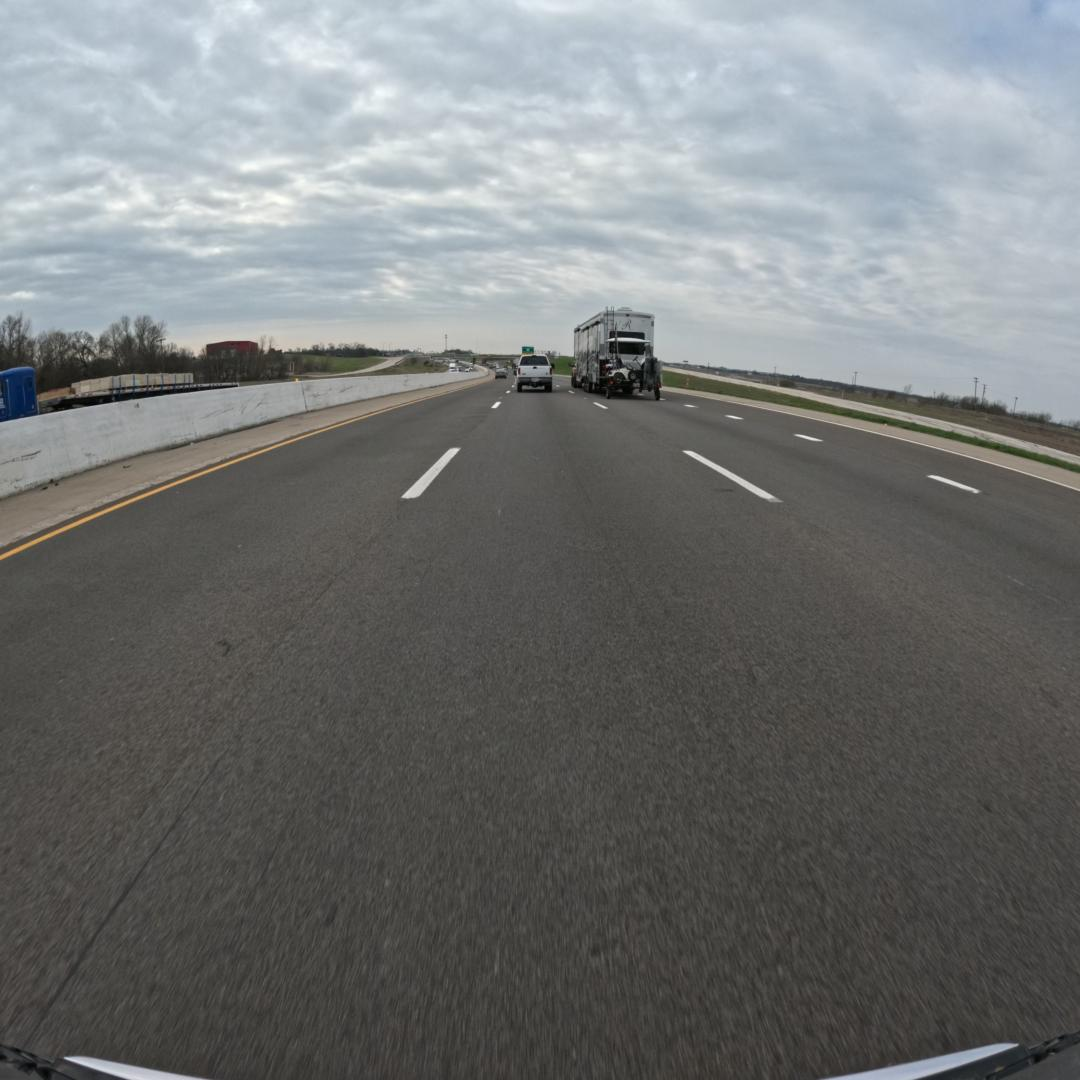lane-1: (551, 375, 1080, 693)
lane0: (3, 374, 1080, 1080)
lane1: (1, 373, 516, 1026)
